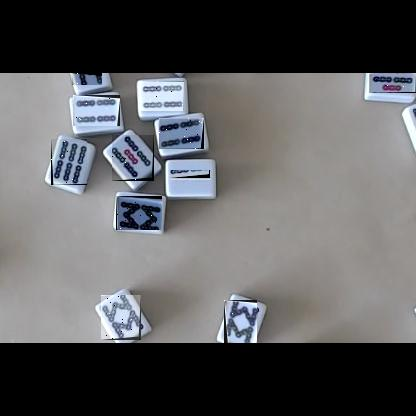2s: (170, 171, 210, 183)
4s: (73, 95, 120, 126), (159, 118, 204, 149), (139, 81, 184, 111)
5s: (112, 135, 154, 181), (369, 73, 416, 93), (71, 73, 102, 85)
6s: (51, 139, 87, 185)
8s: (101, 295, 141, 340), (116, 196, 162, 230), (224, 300, 257, 343)
